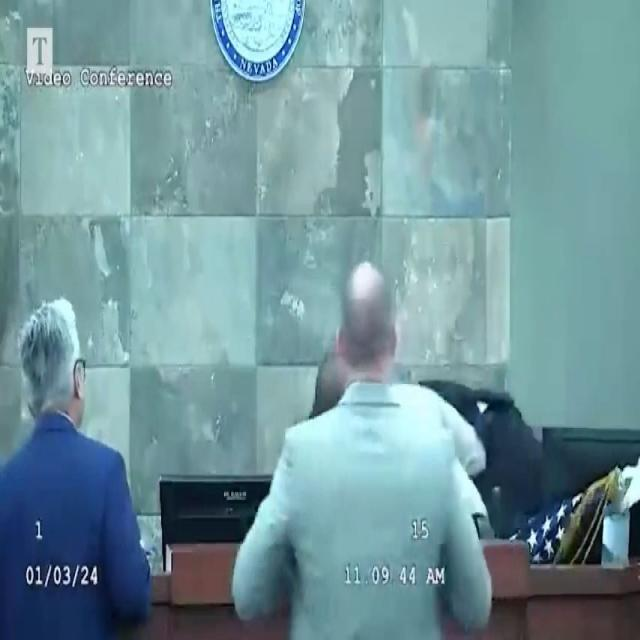non-fight: (232, 253, 496, 640), (0, 289, 155, 638)
